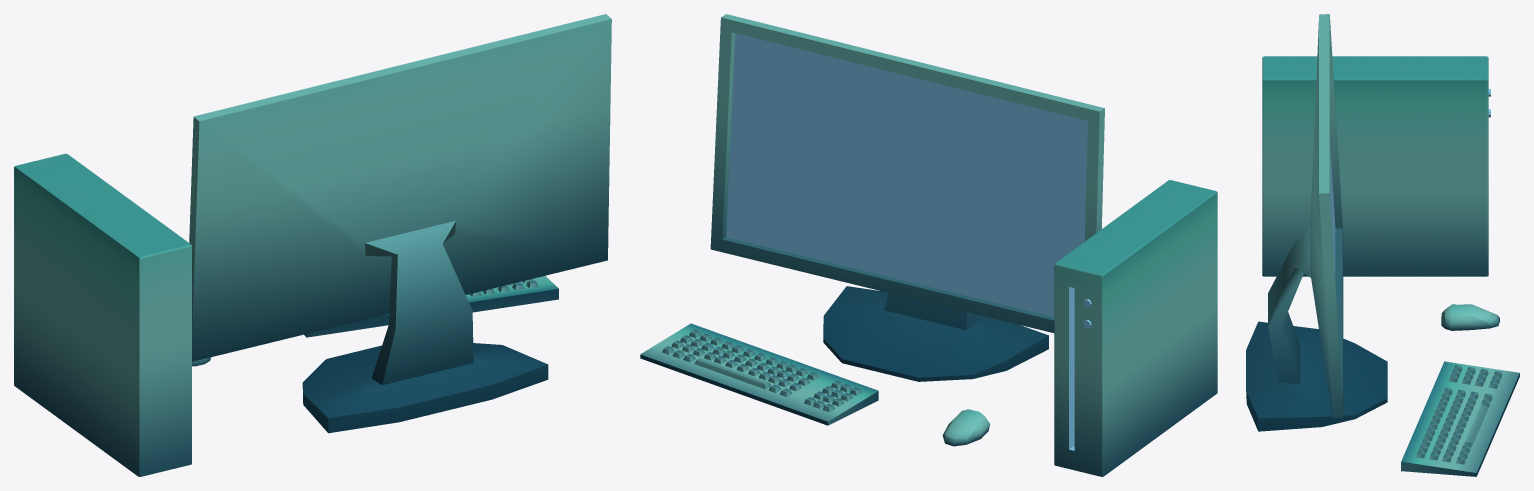
The picture shows the model from 3 angles, left to right: view 1: azimuth 30°, elevation 25°; view 2: azimuth 150°, elevation 25°; view 3: azimuth 270°, elevation 25°; orthographic projection. The views are drawn at different scales.
Parts seen in each view (by area): view 1: Monitor, PC, KeyBoard; view 2: Monitor, PC, KeyBoard, Mouse; view 3: PC, Monitor, KeyBoard, Mouse.
Part boxes in pixels (x1,y1,x2,y2): Monitor: (189,14,611,433); PC: (14,153,191,476); KeyBoard: (304,275,558,337); Monitor: (710,14,1104,381); PC: (1054,180,1217,476); KeyBoard: (640,323,878,425); Mouse: (942,409,990,446); PC: (1262,56,1490,276); Monitor: (1246,14,1387,431); KeyBoard: (1401,361,1519,476); Mouse: (1441,304,1499,330).
Size of the model in its own units: 9.76 by 5.72 by 5.05.
1 material, 1 textured.
